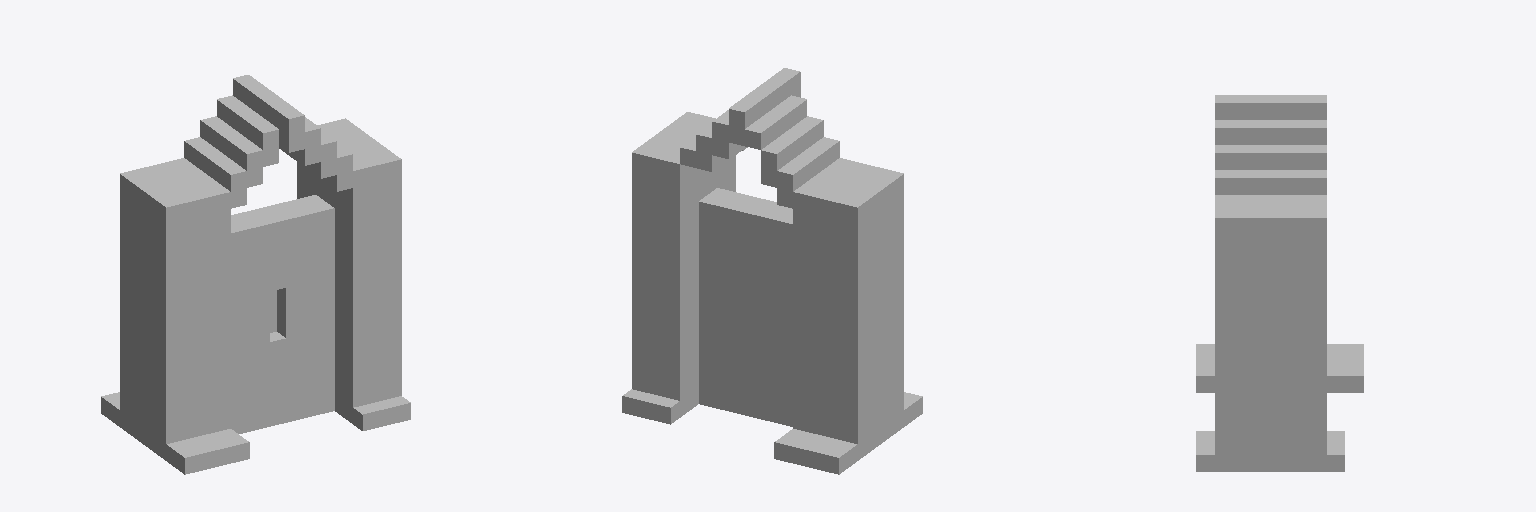
File: door.obj
3 views of the same model, side by side, from view 1: azimuth 30°, elevation 25°; view 2: azimuth 150°, elevation 25°; view 3: azimuth 270°, elevation 25° (orthographic).
Visible parts, largest first — view 1: object 1; view 2: object 1; view 3: object 1.
Part boxes in pixels (x1,y1,x2,y2): object 1: (101, 75, 410, 474); object 1: (622, 68, 922, 474); object 1: (1196, 95, 1363, 471).
Size of the model in its own units: 1.4 by 1.9 by 0.9.